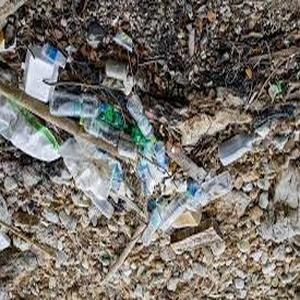Plastic: (126, 100, 156, 144), (51, 93, 108, 116)
